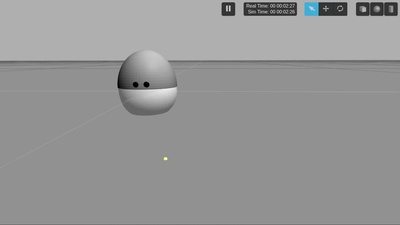mira_robot: (118, 49, 178, 115)
